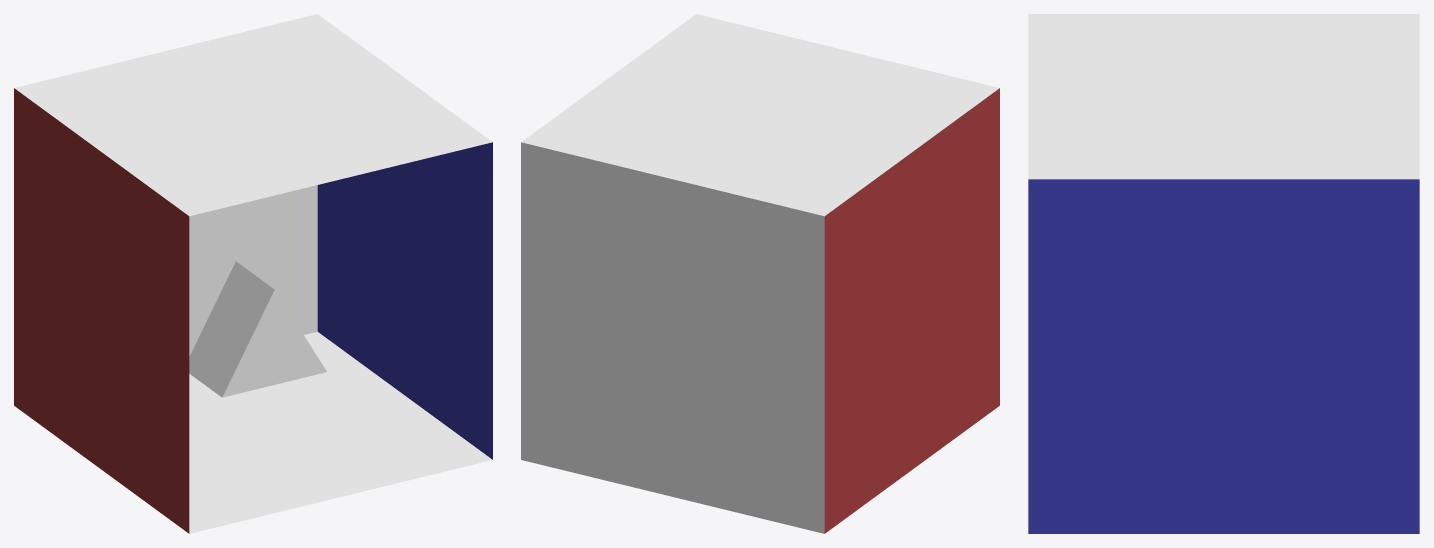
The model's file is prism_test.dae.
The picture shows the model from 3 angles, left to right: view 1: azimuth 30°, elevation 25°; view 2: azimuth 150°, elevation 25°; view 3: azimuth 270°, elevation 25°; orthographic projection. The views are drawn at different scales.
Parts seen in each view (by area): view 1: Square-S3D-13, Square-S3D-15, Square-S3D-14, Square-S3D-17, Square-S3D-16, Circle-mesh-S3D-18; view 2: Square-S3D-16, Square-S3D-13, Square-S3D-15; view 3: Square-S3D-14, Square-S3D-15.
Part boxes in pixels (x1,y1,x2,y2): Square-S3D-13: (14, 88, 189, 533); Square-S3D-15: (14, 14, 492, 216); Square-S3D-14: (317, 142, 492, 459); Square-S3D-17: (189, 331, 492, 533); Square-S3D-16: (189, 185, 317, 356); Circle-mesh-S3D-18: (189, 261, 326, 397); Square-S3D-16: (521, 142, 824, 533); Square-S3D-13: (824, 88, 999, 533); Square-S3D-15: (521, 14, 999, 216); Square-S3D-14: (1028, 179, 1419, 533); Square-S3D-15: (1028, 14, 1419, 179).
Bounding box in the file's own units: 1 × 1 × 1.
